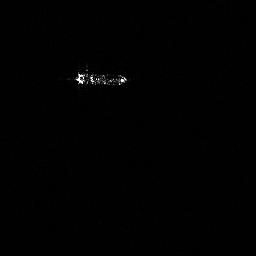ship: (73, 67, 128, 90)
